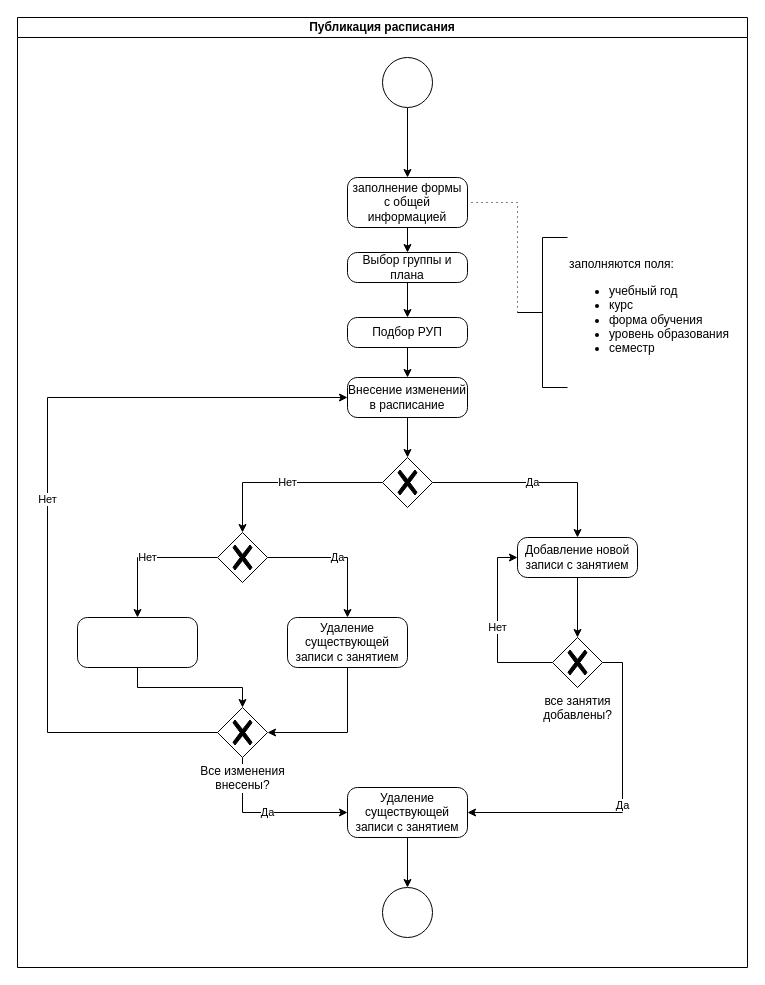
The diagram is 765 pixels wide and 985 high, and some of its shapes have lost their labels. Each missing label, with the centre of its shape:
Вход в систему публикации расписания: (407,82)
Выход из системы / переход к следующей группе: (407,912)
Нужно удаление?: (242,557)
Нужны новые записи?: (407,482)
Редактирование существующей записи с занятием: (137,642)
